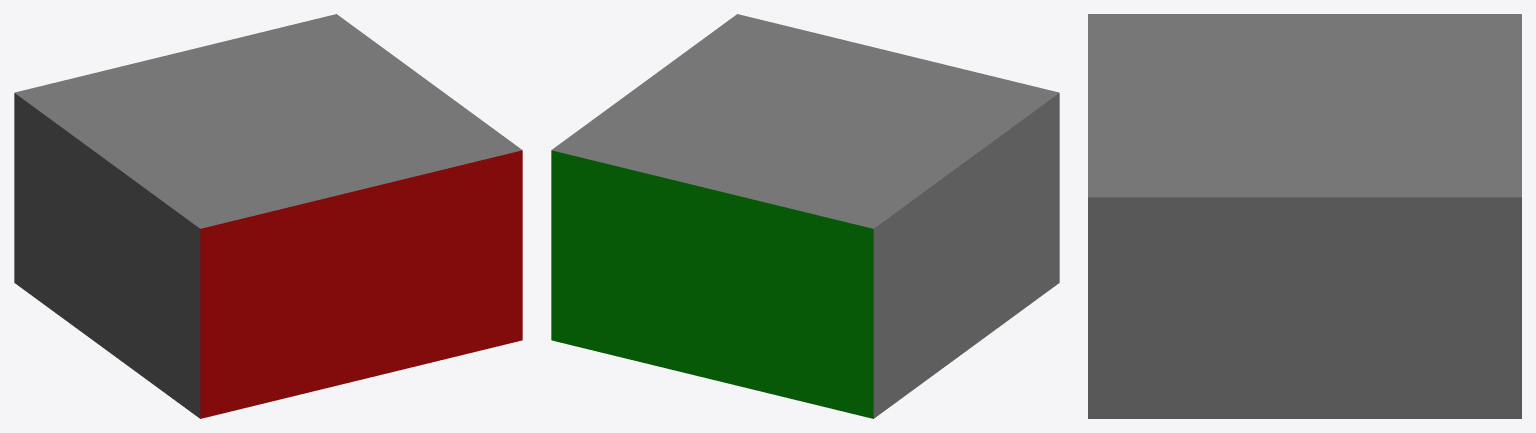
The picture shows the model from 3 angles, left to right: view 1: azimuth 30°, elevation 25°; view 2: azimuth 150°, elevation 25°; view 3: azimuth 270°, elevation 25°; orthographic projection. The views are drawn at different scales.
Parts seen in each view (by area): view 1: env; view 2: env; view 3: env.
Boxes of the visible parts, left/top/right/bottom form: env: left=14, top=14, right=522, bottom=418; env: left=551, top=14, right=1059, bottom=418; env: left=1088, top=14, right=1521, bottom=418.
Bounding box in the file's own units: 8.4 × 4.74 × 8.4.
